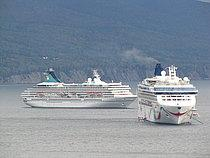Ship: (135, 60, 201, 130), (22, 73, 138, 112)
